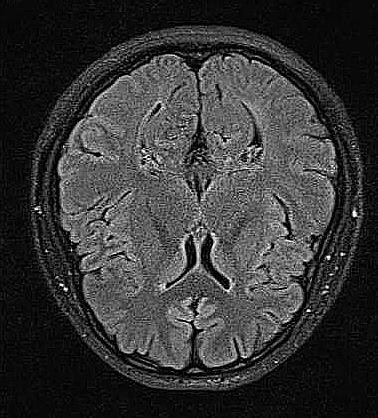Normal_Brain: (4, 1, 378, 418)
